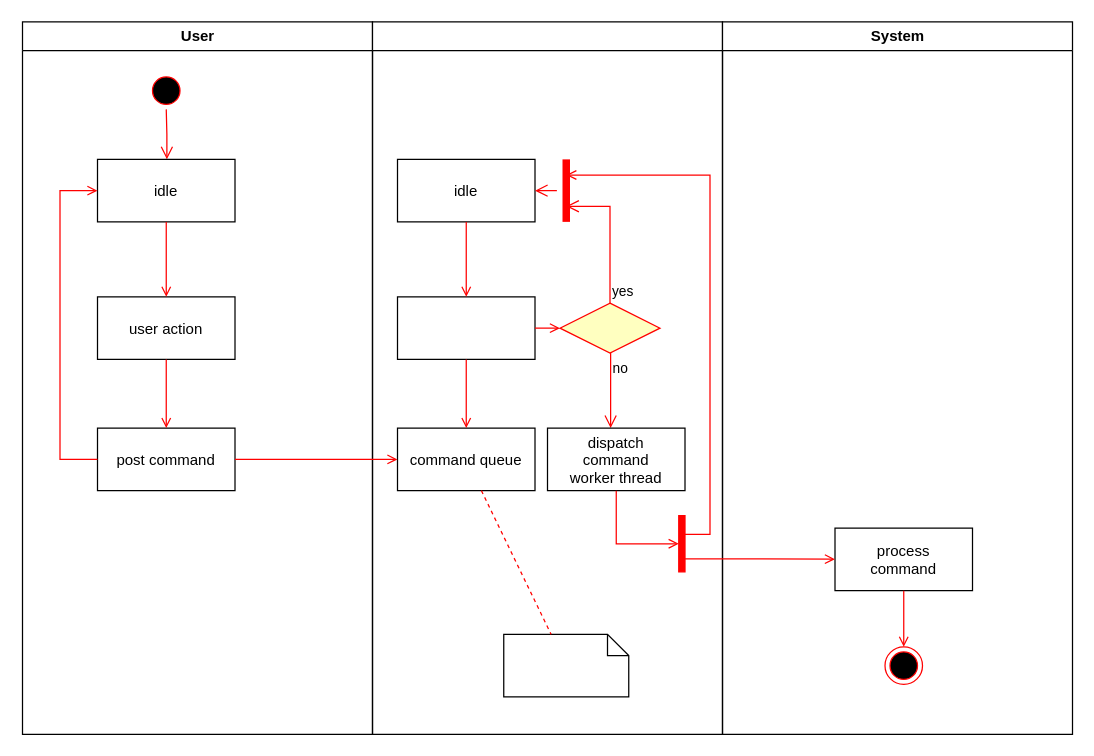
The diagram is 1094 pixels wide and 756 high, and some of its shapes have lost their labels. The shapes that lost their labels are listed below. From the top down, each one's box as (x1, y1, x2, y2) in pixels, then its label:
(396, 296, 535, 359): check for new commands
(559, 302, 660, 353): queue empty
(371, 21, 722, 734): Trip
(502, 633, 629, 697): critical section
